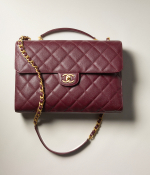channel: (8, 30, 132, 124), (32, 57, 46, 124), (57, 66, 87, 91)
